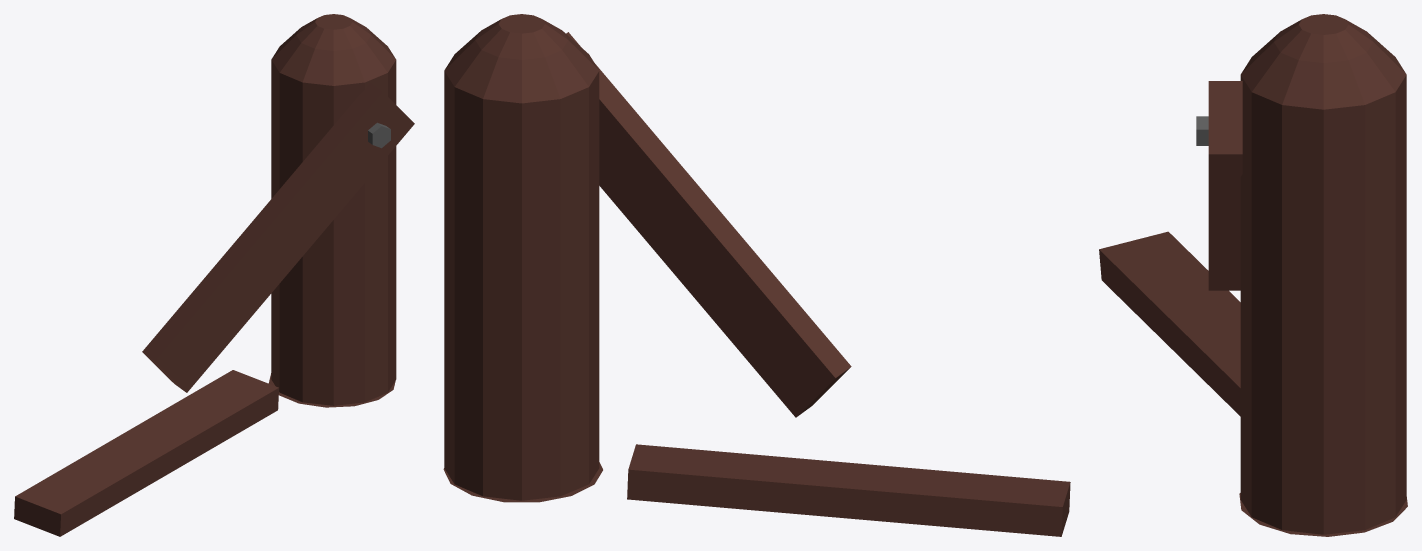
Rendered from fence_variation5.fbx.
3 views of the same model, side by side, from view 1: azimuth 30°, elevation 25°; view 2: azimuth 150°, elevation 25°; view 3: azimuth 270°, elevation 25° (orthographic). The views are drawn at different scales.
Visible parts, largest first — view 1: Cylinder; view 2: Cylinder; view 3: Cylinder.
Part boxes in pixels (bbox=[...]): Cylinder: bbox=[14, 14, 414, 536]; Cylinder: bbox=[443, 14, 1070, 536]; Cylinder: bbox=[1099, 14, 1407, 536].
Bounding box in the file's own units: 319 × 259 × 149.
